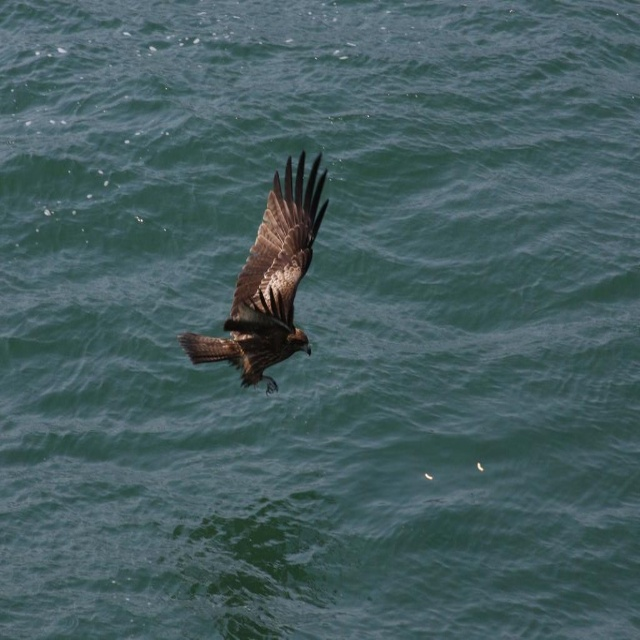Eagle: (176, 145, 334, 405)
